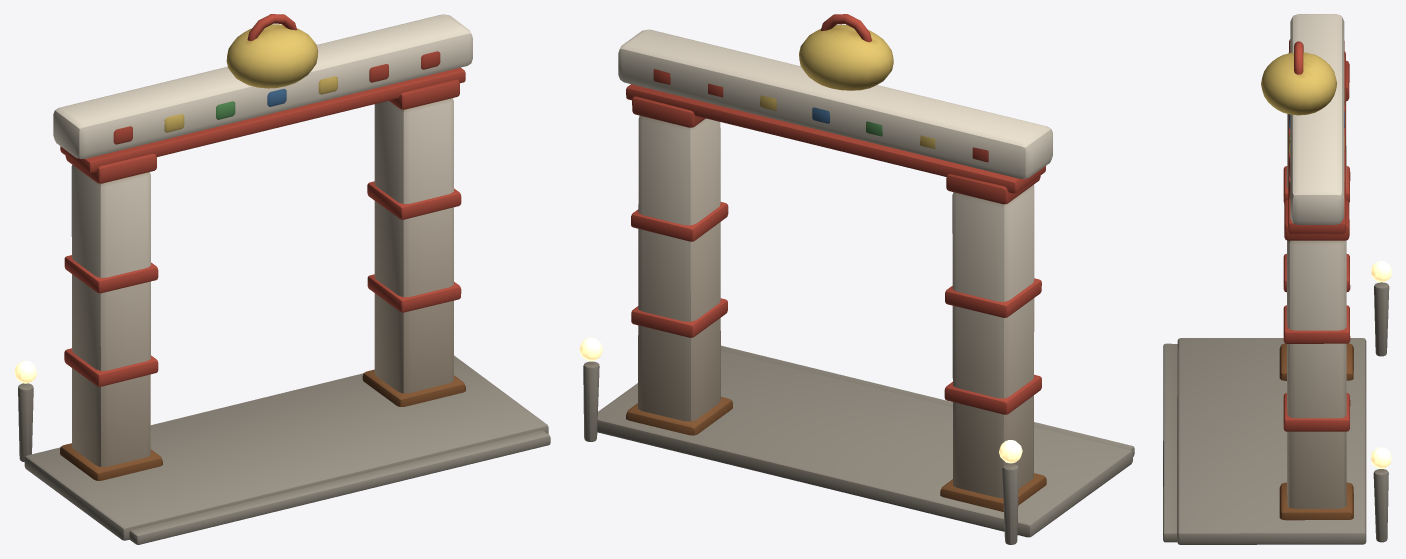
3 renders of one model, left to right at view 1: azimuth 30°, elevation 25°; view 2: azimuth 150°, elevation 25°; view 3: azimuth 270°, elevation 25°, orthographic. The views are drawn at different scales.
Visible parts, largest first — view 1: gate_bf93a749; view 2: gate_bf93a749; view 3: gate_bf93a749.
Part boxes in pixels (x1=…): gate_bf93a749: x1=14, y1=14, x2=550, y2=544; gate_bf93a749: x1=579, y1=14, x2=1134, y2=544; gate_bf93a749: x1=1163, y1=14, x2=1391, y2=544.
Size of the model in its own units: 5.17 by 4.97 by 2.55.
